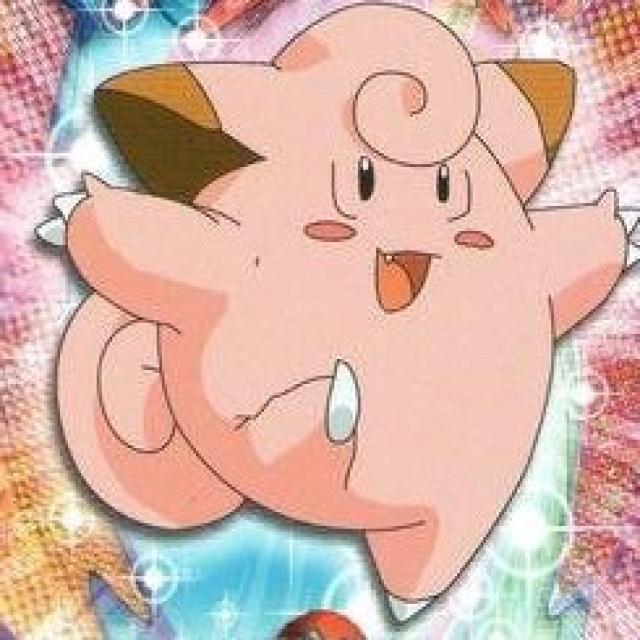Clefairy: (81, 59, 574, 533)
